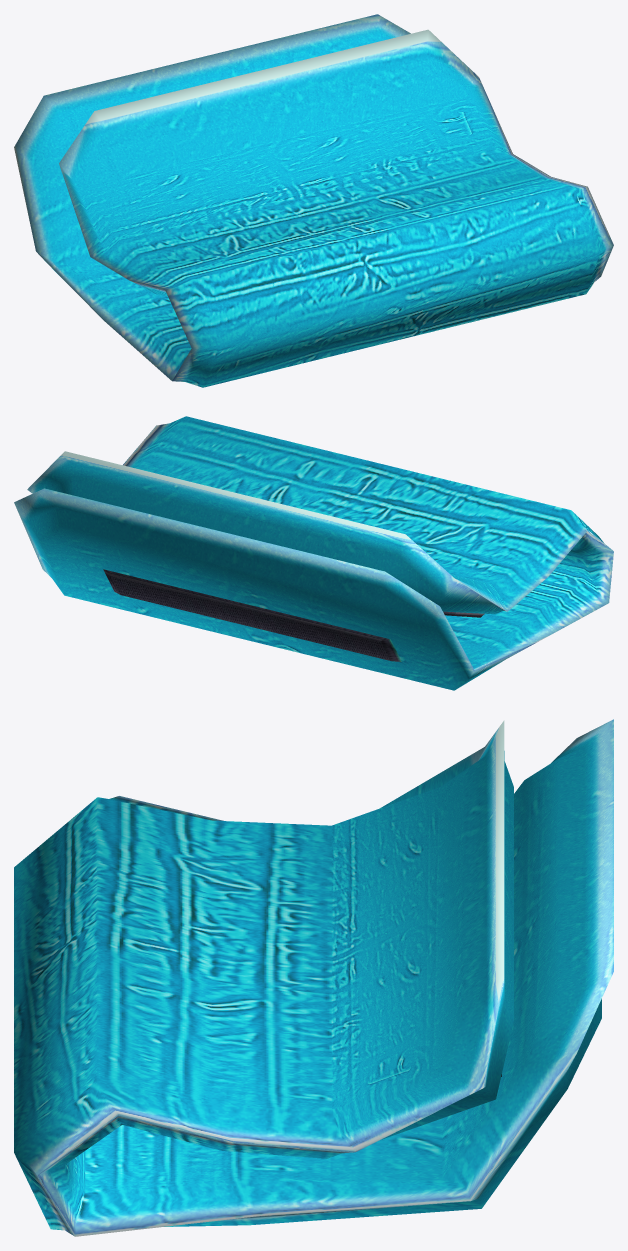
Rendered from ArmPillowFolded.fbx.
The picture shows the model from 3 angles, top to bottom: view 1: azimuth 30°, elevation 25°; view 2: azimuth 150°, elevation 25°; view 3: azimuth 270°, elevation 25°; orthographic projection. The views are drawn at different scales.
Parts seen in each view (by area): view 1: ArmPillowFolded; view 2: ArmPillowFolded; view 3: ArmPillowFolded.
Part boxes in pixels (x1,y1,x2,y2): ArmPillowFolded: [14, 14, 613, 387]; ArmPillowFolded: [14, 416, 613, 690]; ArmPillowFolded: [14, 719, 613, 1236].
Size of the model in its own units: 34.53 by 11.9 by 26.08.
